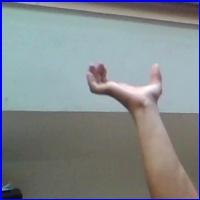space: (82, 55, 170, 110)
